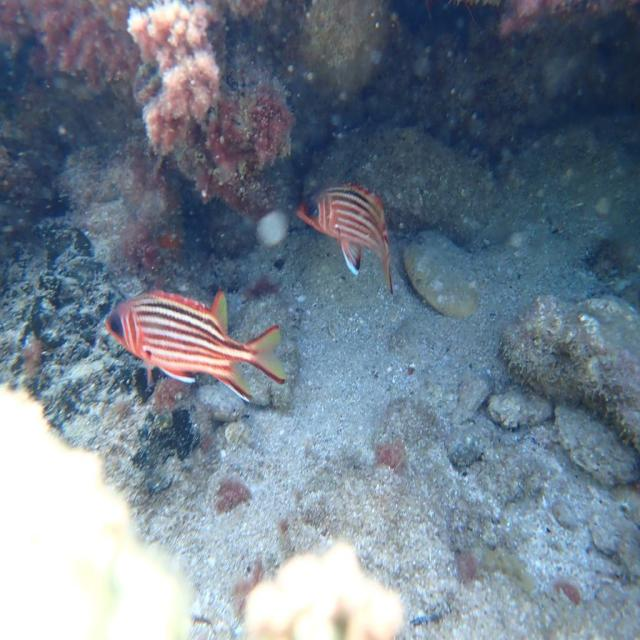Asker Baligi: (102, 286, 288, 405), (295, 180, 394, 295)
